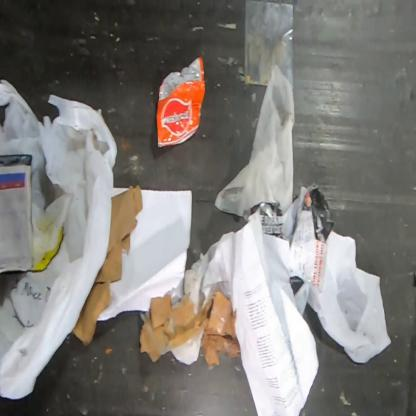cardboard: (71, 184, 143, 348), (139, 292, 242, 368)
rigid_plastic: (244, 0, 297, 88)
soft_plastic: (0, 77, 118, 400), (156, 56, 206, 148), (0, 156, 34, 271)
